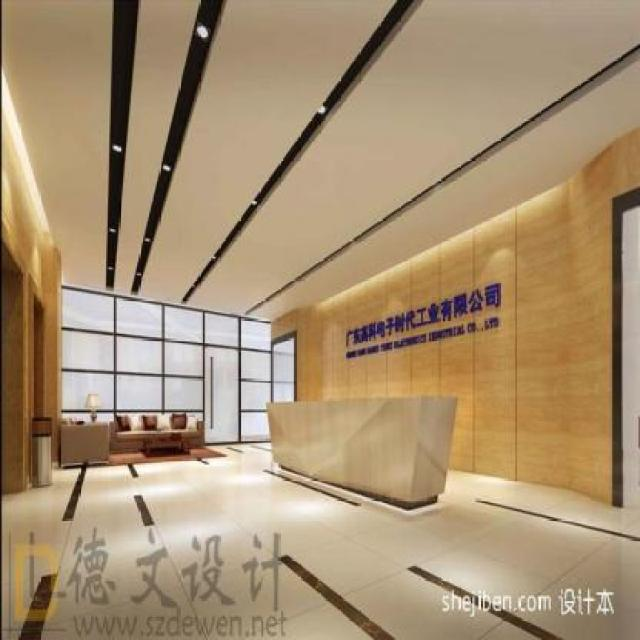frontdesk: (257, 392, 471, 522)
